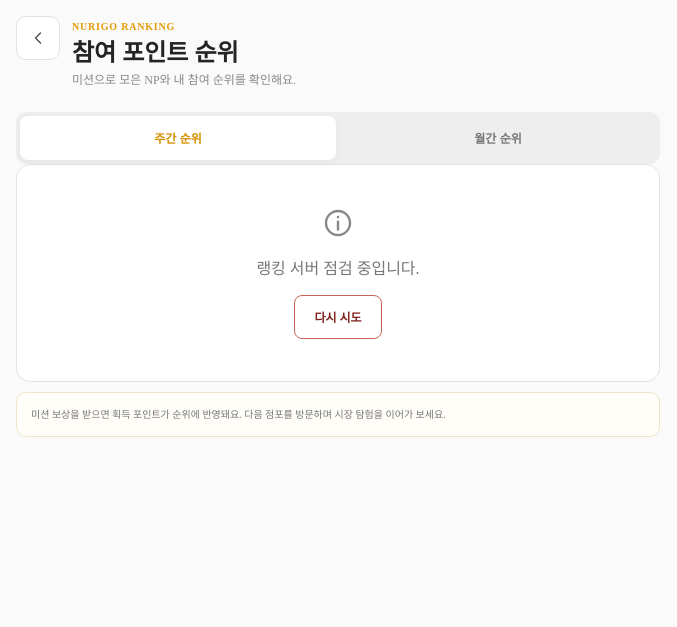
MissionRankingsPage › 랭킹 조회 실패 후 다시 시도해 정상 상태로 복구한다
The image size is (677, 627).
Check: the message shows "랭킹 서버 점검 중입니다.", box [256, 260, 420, 277]
Click the button "다시 시도". click: [338, 317]
box: [294, 295, 382, 339]
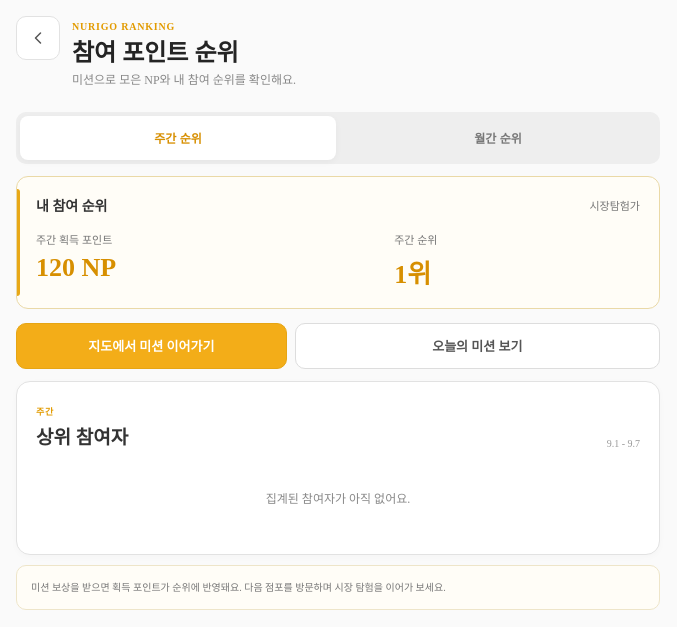
Check: the text "집계된 참여자가 아직 없어요." is shown, box [266, 492, 410, 506]
